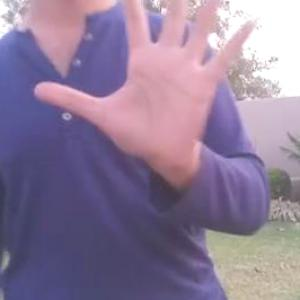follow_hand: (32, 0, 260, 178)
